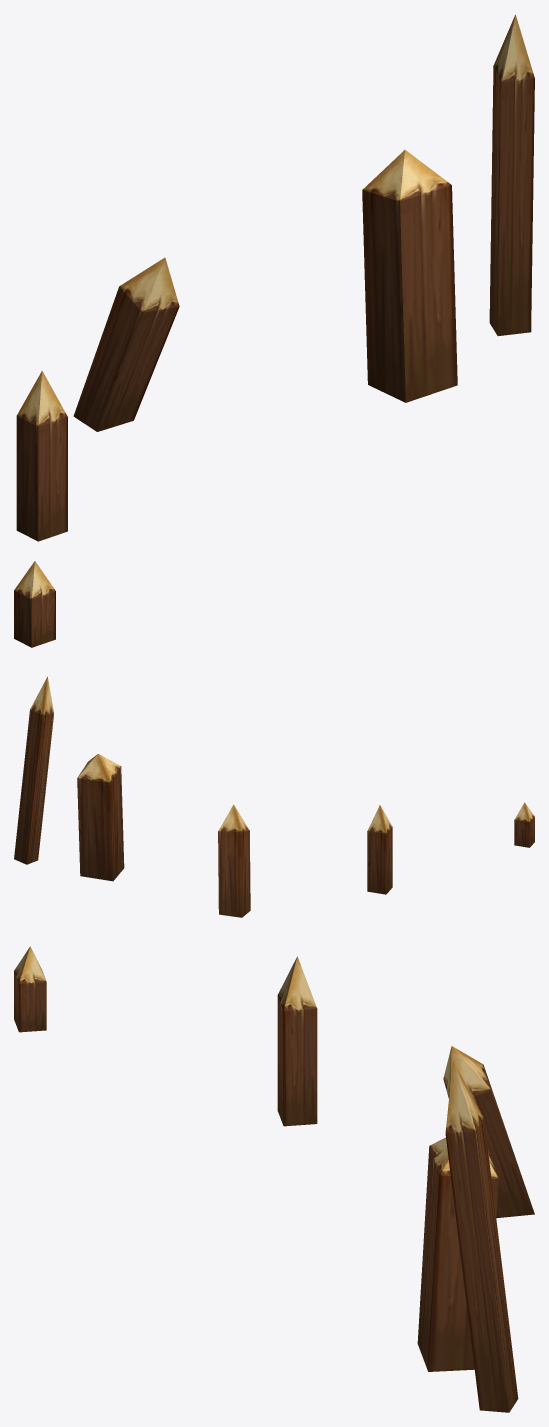
Rendered from Cunluo_xiaowujian01.FBX.
3 renders of one model, top to bottom at view 1: azimuth 30°, elevation 25°; view 2: azimuth 150°, elevation 25°; view 3: azimuth 270°, elevation 25°, orthographic. The views are drawn at different scales.
Parts seen in each view (by area): view 1: Cunluo_xiaowujian01; view 2: Cunluo_xiaowujian01; view 3: Cunluo_xiaowujian01.
Part boxes in pixels (bbox=[...]): Cunluo_xiaowujian01: bbox=[14, 14, 534, 647]; Cunluo_xiaowujian01: bbox=[14, 676, 534, 917]; Cunluo_xiaowujian01: bbox=[14, 946, 534, 1412].
Bounding box in the file's own units: 366 × 163 × 222.
